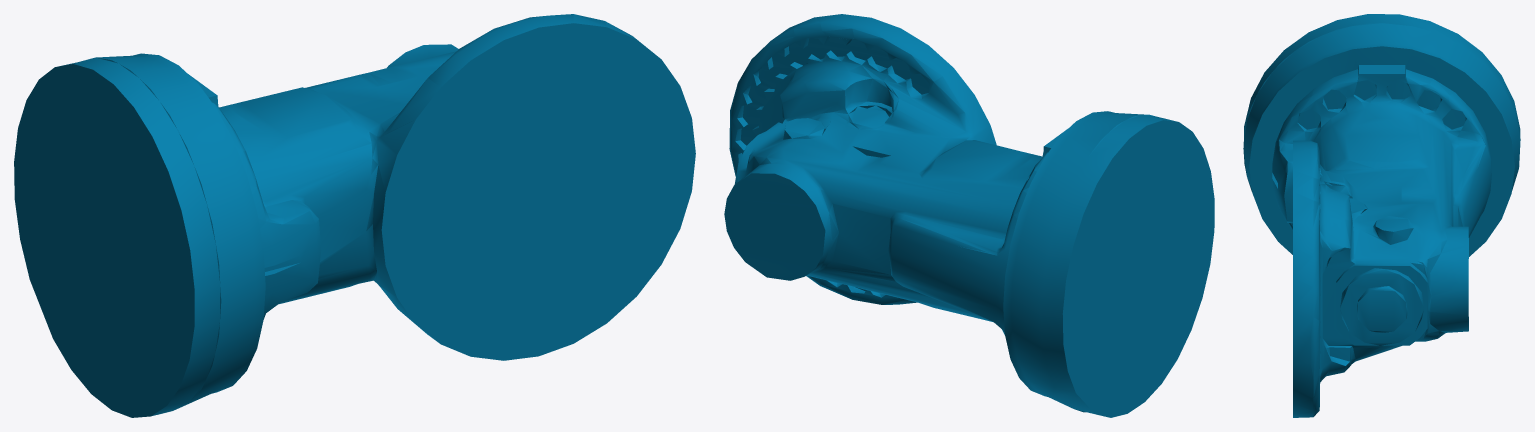
The picture shows the model from 3 angles, left to right: view 1: azimuth 30°, elevation 25°; view 2: azimuth 150°, elevation 25°; view 3: azimuth 270°, elevation 25°; orthographic projection. The views are drawn at different scales.
Parts seen in each view (by area): view 1: mh00400-j00_lk4; view 2: mh00400-j00_lk4; view 3: mh00400-j00_lk4.
Part boxes in pixels (left/top/right/bottom): mh00400-j00_lk4: left=14, top=14, right=695, bottom=417; mh00400-j00_lk4: left=724, top=14, right=1214, bottom=417; mh00400-j00_lk4: left=1243, top=14, right=1520, bottom=417.
Size of the model in its own units: 0.4073 by 0.2397 by 0.24.
